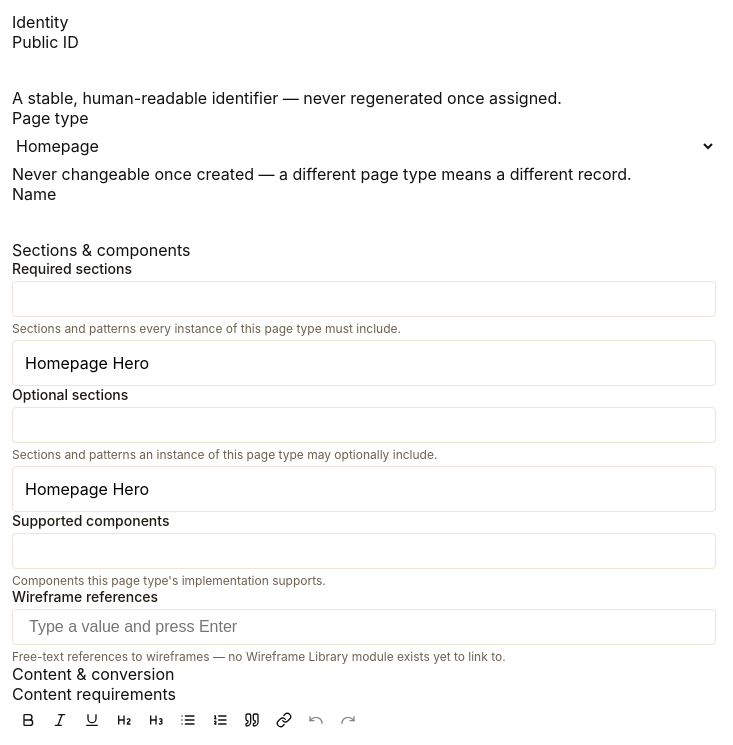
Test: PageTemplateLibraryForm › rejects a section already selected as required from also being added as optional, client-side, mirroring the backend's own overlap rule
The image size is (733, 745).
Click the button "Homepage Hero" below "Required sections" at (87, 363), box [17,345,711,381]
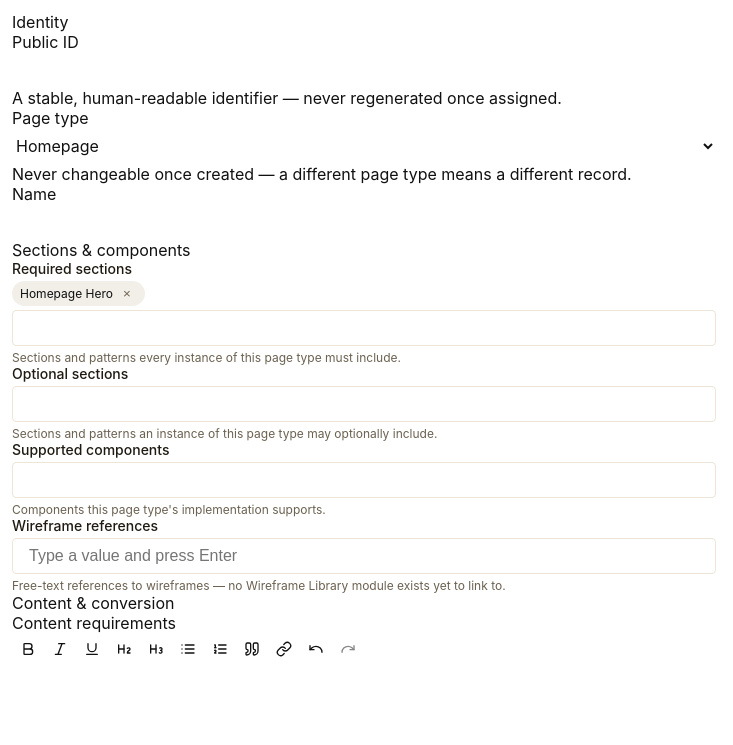
Expected: the dropdown labelled "Optional sections" is shown, [12,386,716,422]
Result: the number of list items "Homepage Hero" is 1 at [12,281,145,306]
